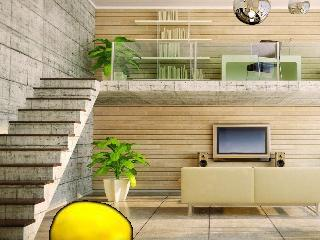lemon: (51, 203, 131, 240)
